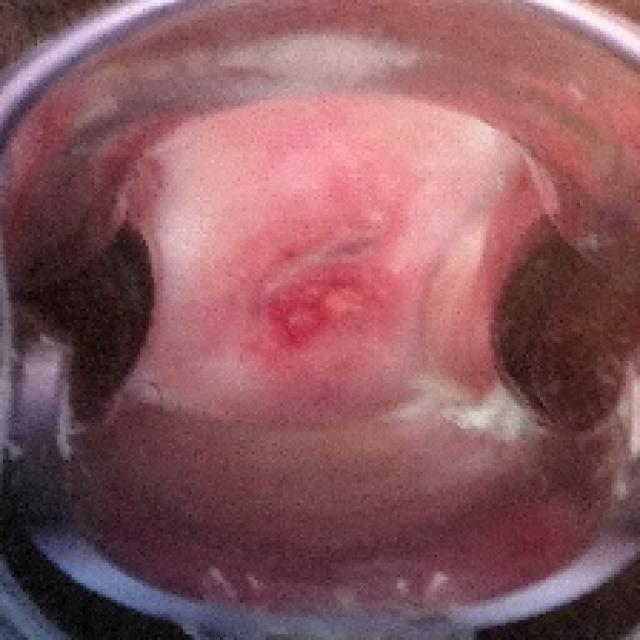type-2: (20, 41, 640, 514)
